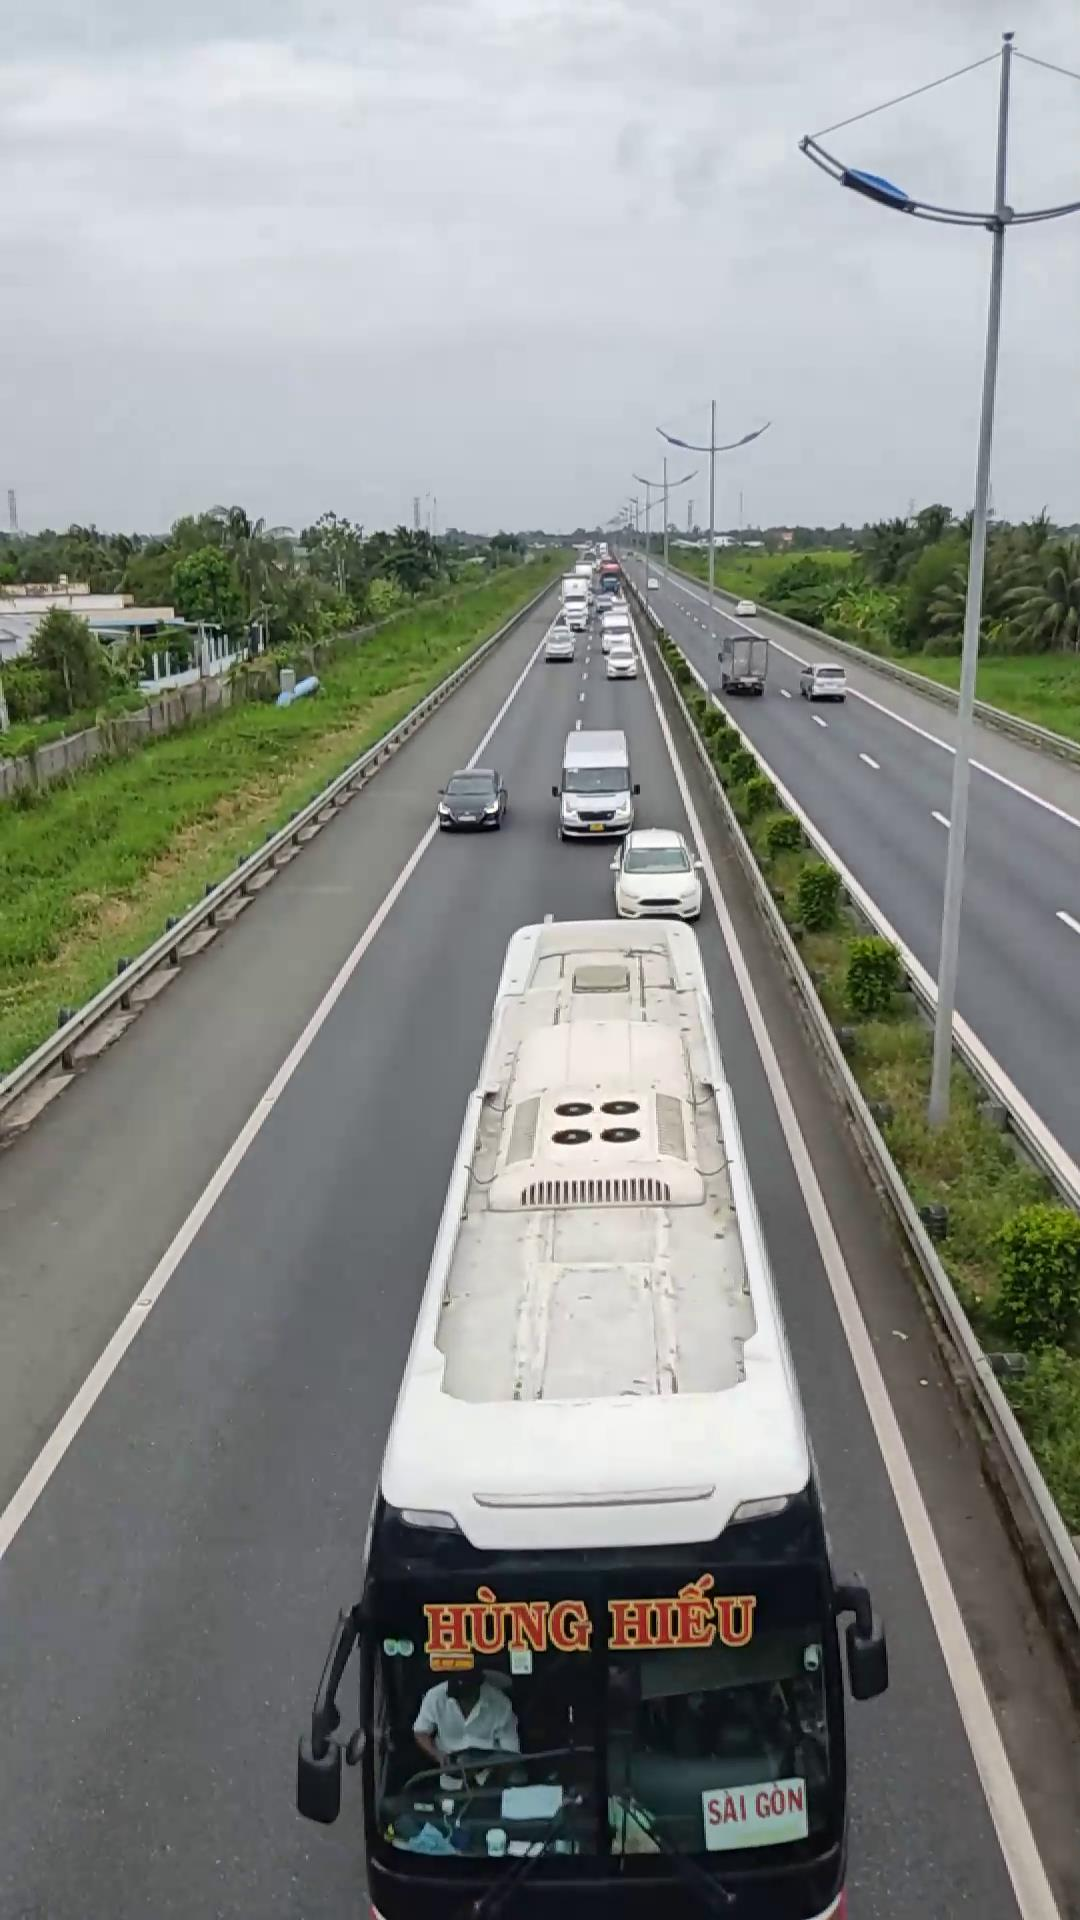bus: (349, 913, 866, 1913)
car: (553, 725, 638, 841), (609, 825, 703, 919), (436, 766, 508, 829)
